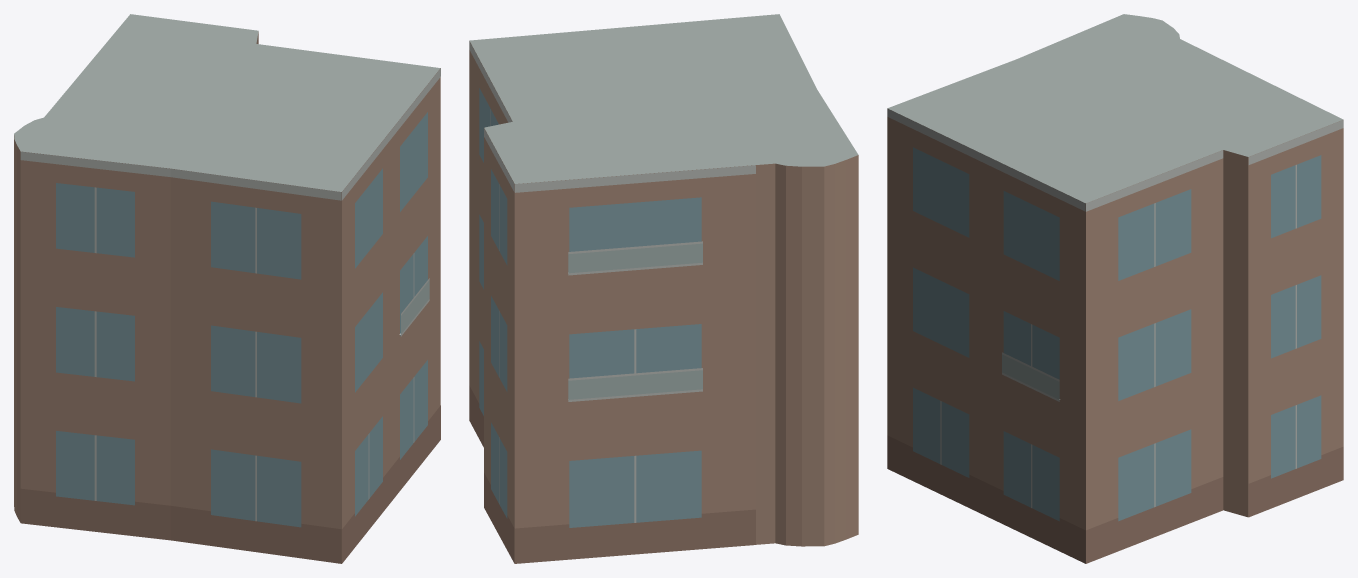
File: survey-upis-32908001.glb
The picture shows the model from 3 angles, left to right: view 1: azimuth 30°, elevation 25°; view 2: azimuth 150°, elevation 25°; view 3: azimuth 270°, elevation 25°; orthographic projection. The views are drawn at different scales.
Parts seen in each view (by area): view 1: survey-upis-32908001.tmp; view 2: survey-upis-32908001.tmp; view 3: survey-upis-32908001.tmp.
Part boxes in pixels (x1,y1,x2,y2): survey-upis-32908001.tmp: (14, 14, 440, 563); survey-upis-32908001.tmp: (469, 14, 858, 563); survey-upis-32908001.tmp: (887, 14, 1343, 563).
Size of the model in its own units: 11.85 by 10.5 by 12.06.
